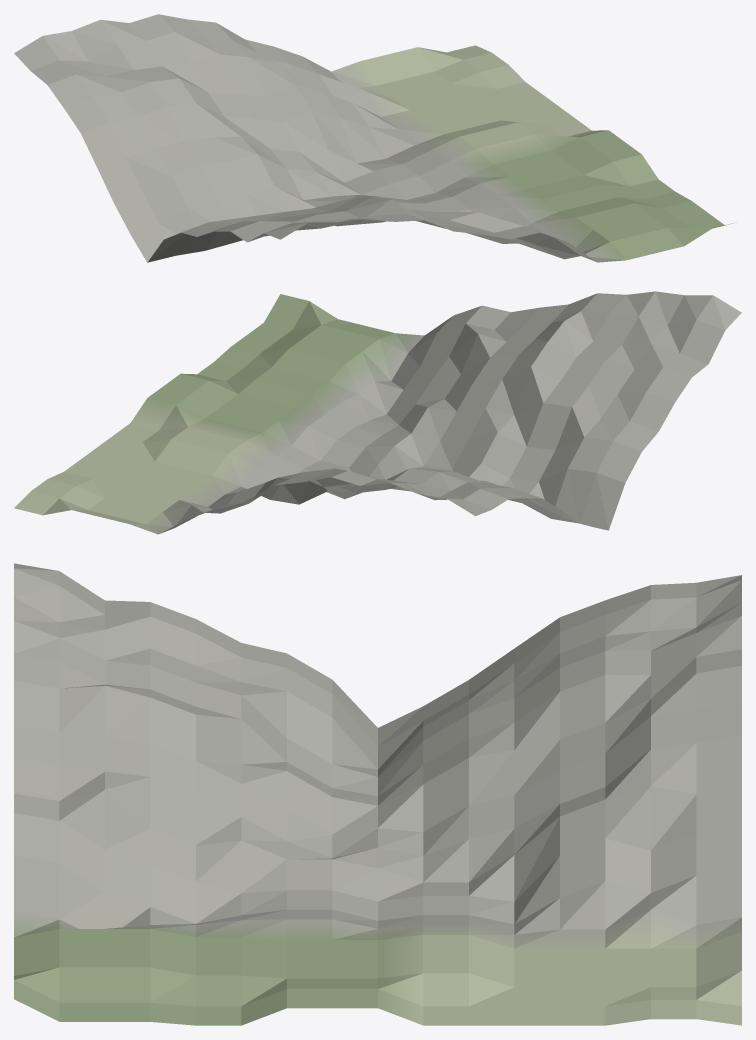
3 views of the same model, one above another, from view 1: azimuth 30°, elevation 25°; view 2: azimuth 150°, elevation 25°; view 3: azimuth 270°, elevation 25° (orthographic). The views are drawn at different scales.
Bounding box in the file's own units: 32 × 8.88 × 32.
